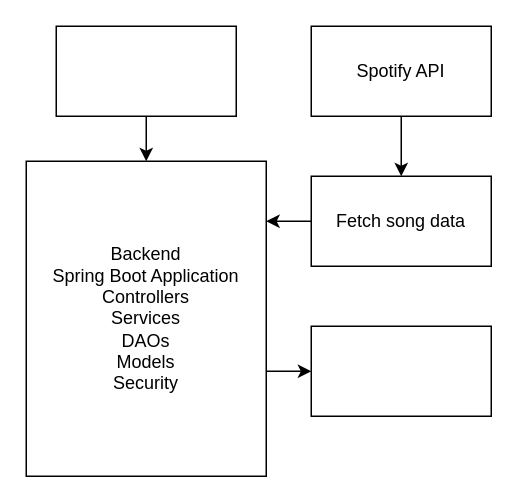
The diagram is 518 pixels wide and 503 high, and some of its shapes have lost their labels. The centre of each missing label's shape, as x and y in pixels:
Database MySQL: the point at 400,370
Frontend (HTML, CSS, JS) USER INTERFACE: the point at 145,70
